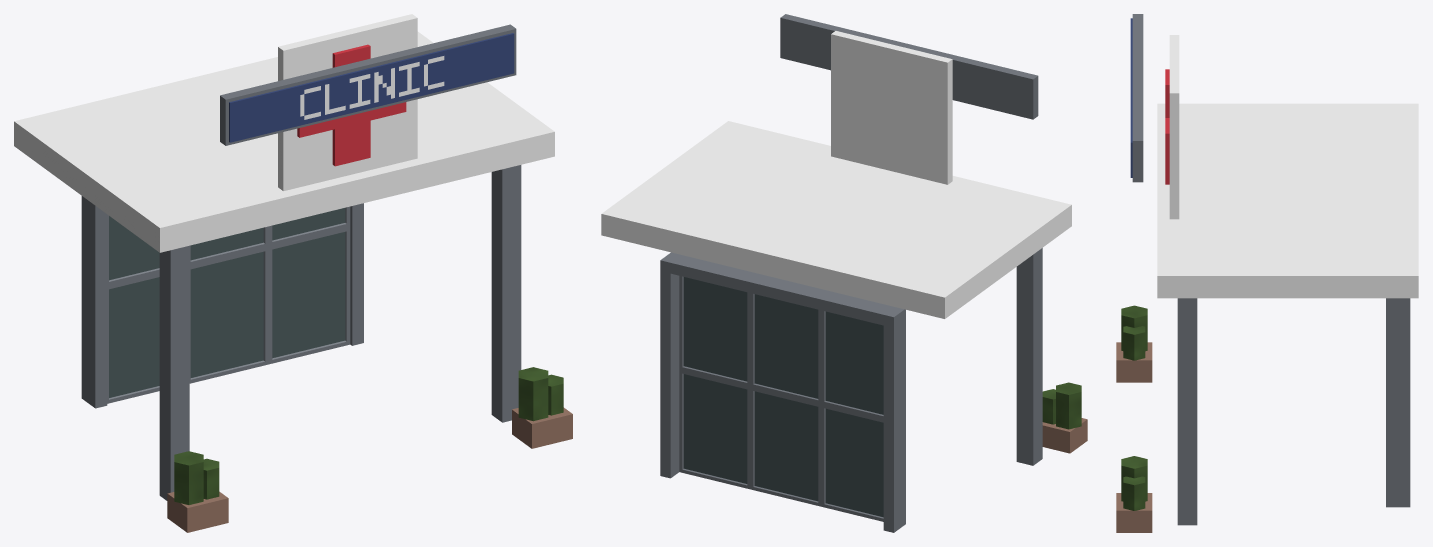
The model's file is entrance_close.fbx.
3 renders of one model, left to right at view 1: azimuth 30°, elevation 25°; view 2: azimuth 150°, elevation 25°; view 3: azimuth 270°, elevation 25°, orthographic. The views are drawn at different scales.
Parts seen in each view (by area): view 1: a1051_entrance.001; view 2: a1051_entrance.001; view 3: a1051_entrance.001.
Boxes of the visible parts, x1=… form: a1051_entrance.001: x1=14, y1=14, x2=572, y2=532; a1051_entrance.001: x1=601, y1=14, x2=1087, y2=532; a1051_entrance.001: x1=1116, y1=14, x2=1418, y2=532.
Size of the model in its own units: 5 by 5.2 by 3.7.
